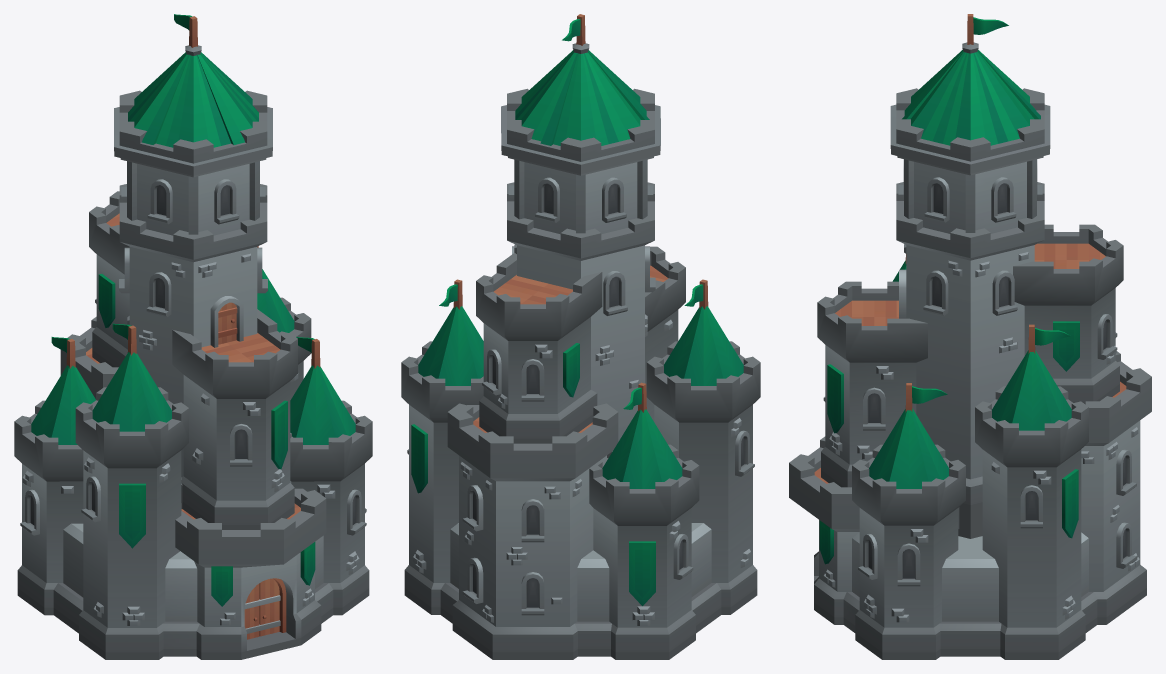
Rendered from castle_green.glb.
The picture shows the model from 3 angles, left to right: view 1: azimuth 30°, elevation 25°; view 2: azimuth 150°, elevation 25°; view 3: azimuth 270°, elevation 25°; orthographic projection.
Visible parts, largest first — view 1: building_castle_green; view 2: building_castle_green; view 3: building_castle_green.
Boxes of the visible parts, left/top/right/bottom form: building_castle_green: left=14, top=14, right=372, bottom=659; building_castle_green: left=401, top=14, right=760, bottom=659; building_castle_green: left=789, top=14, right=1151, bottom=659.
Size of the model in its own units: 1.98 by 3.98 by 2.26.
1 material, 1 textured.
